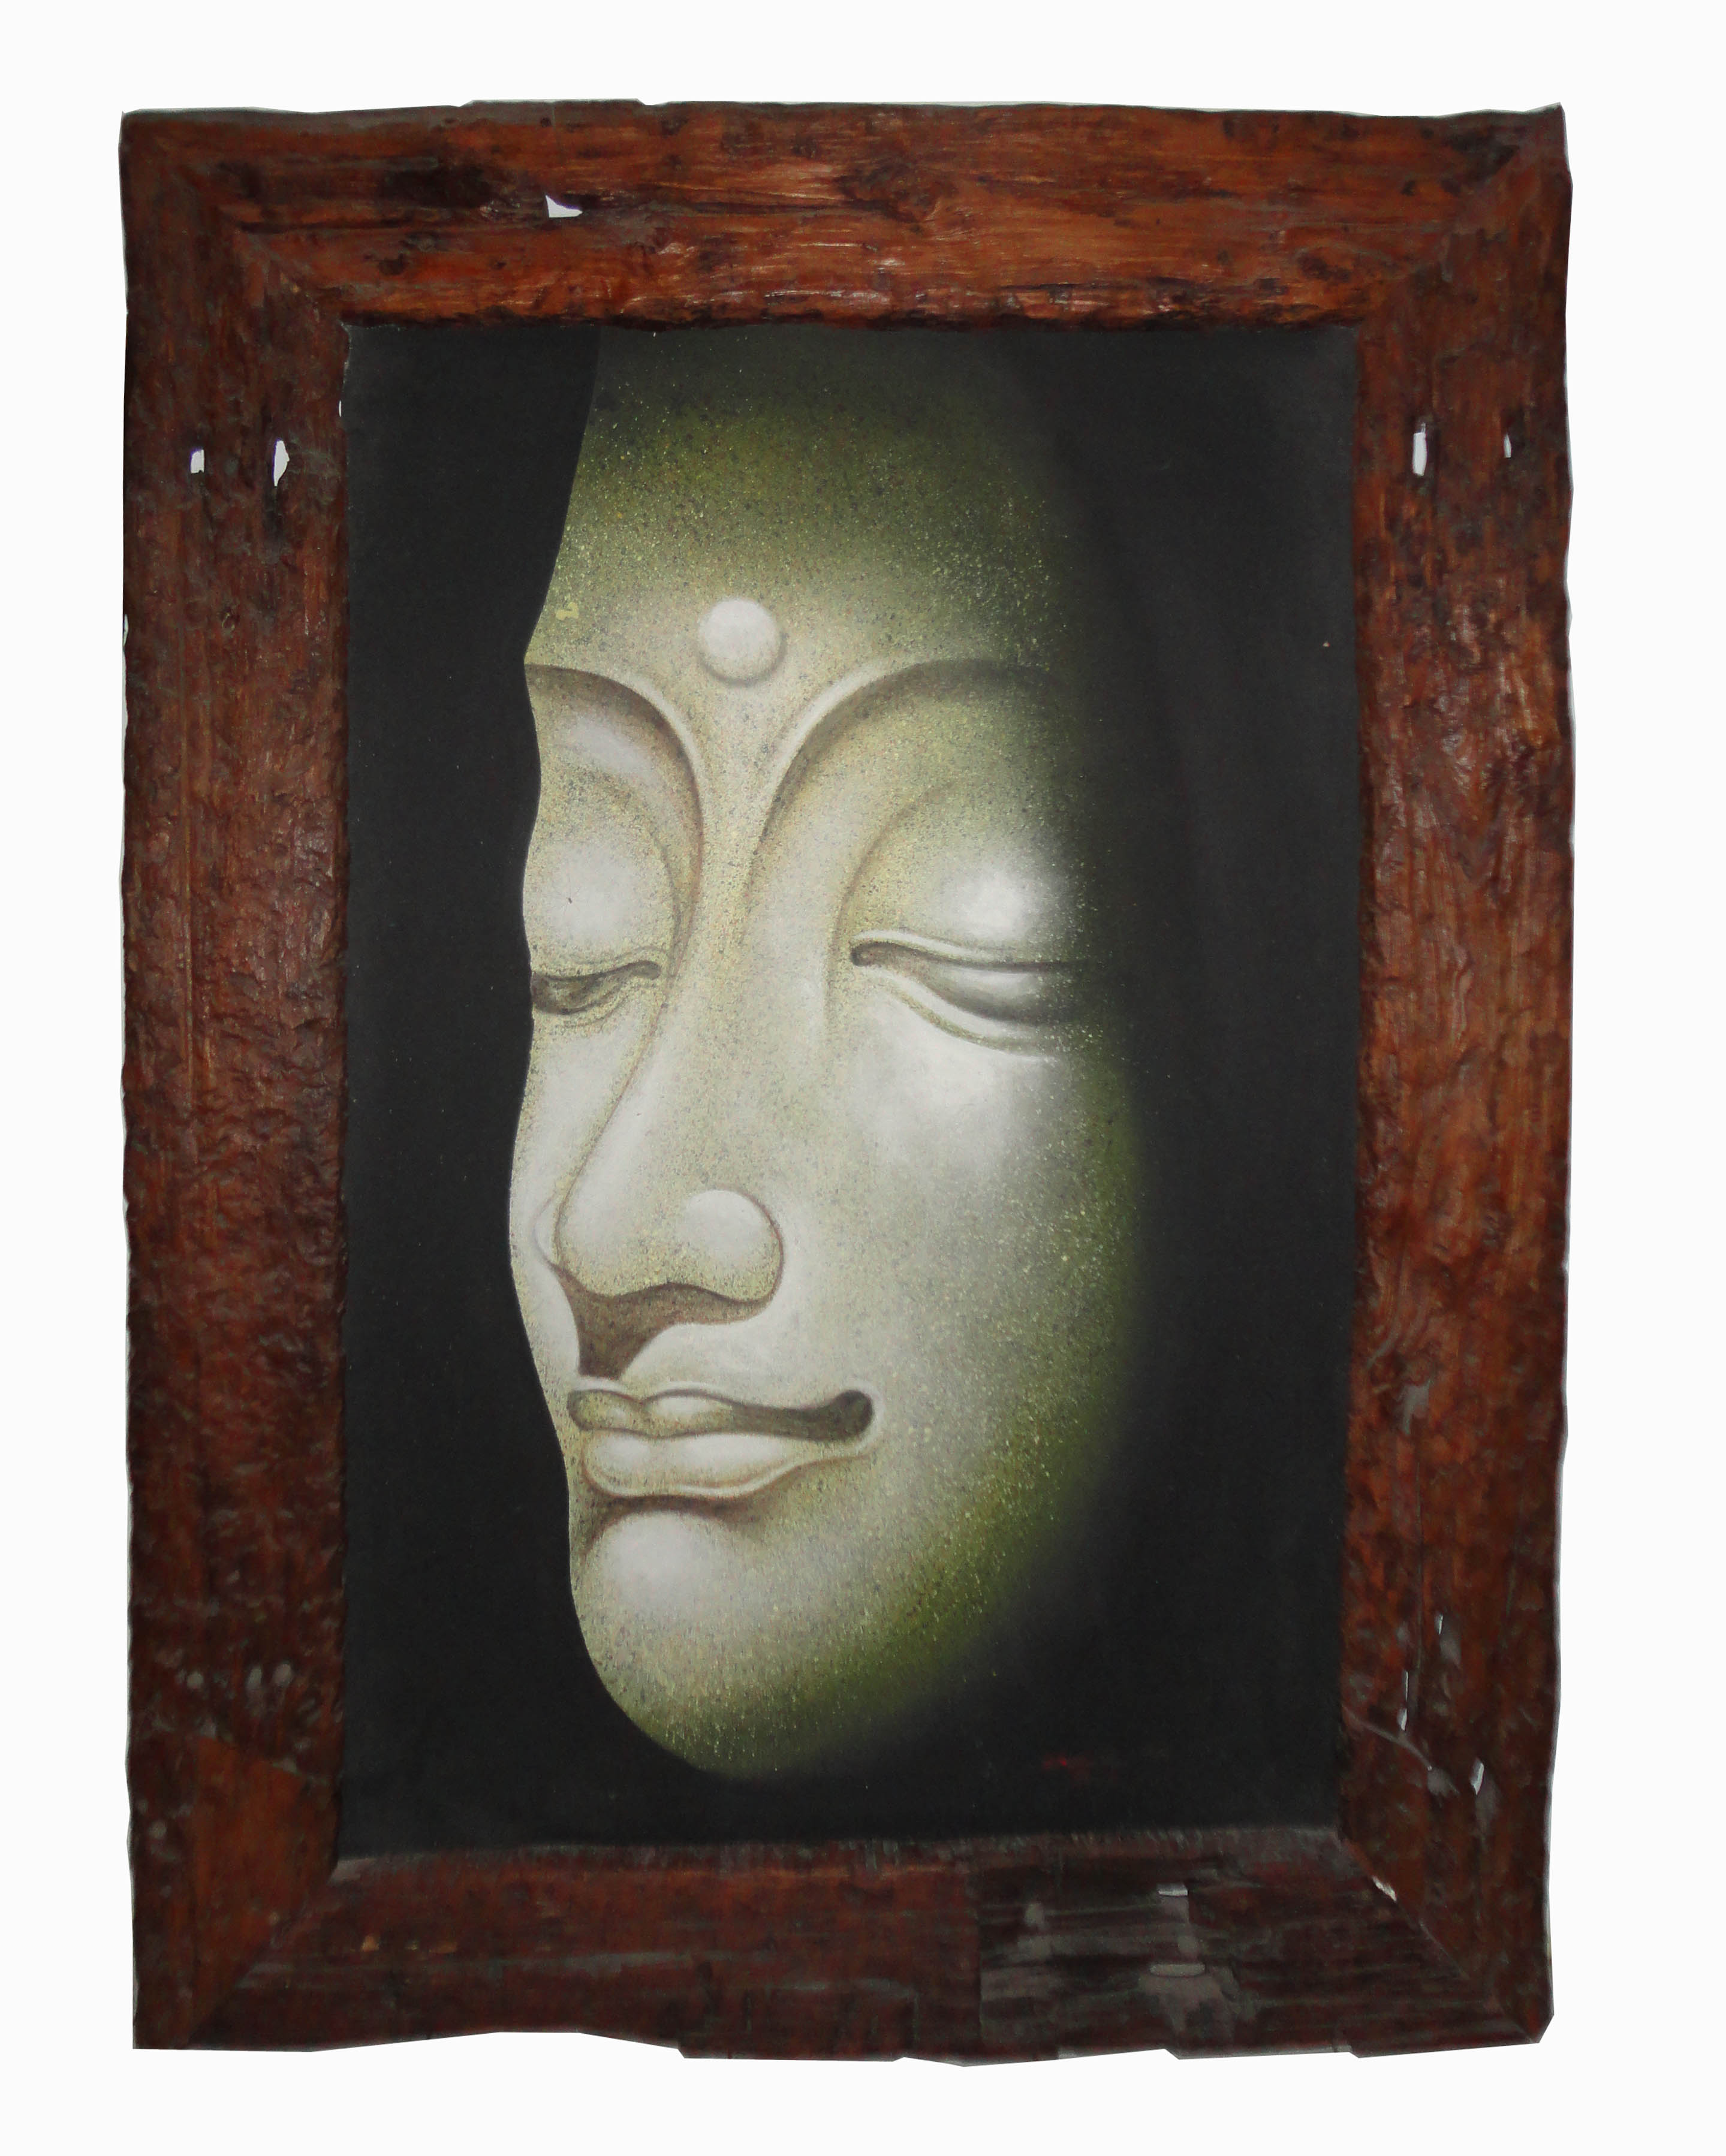lukisan: (114, 104, 1587, 2052)
